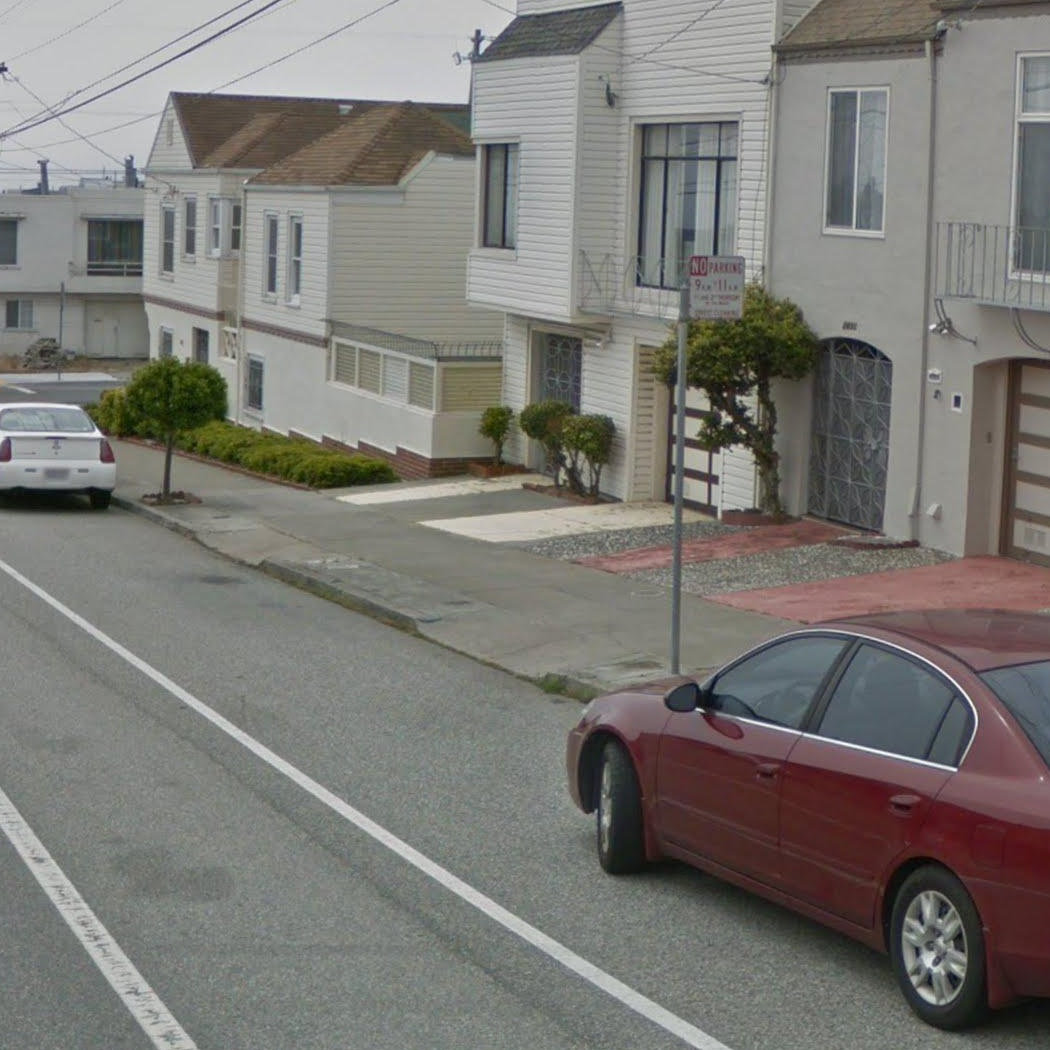No Parking: (687, 252, 748, 324)
